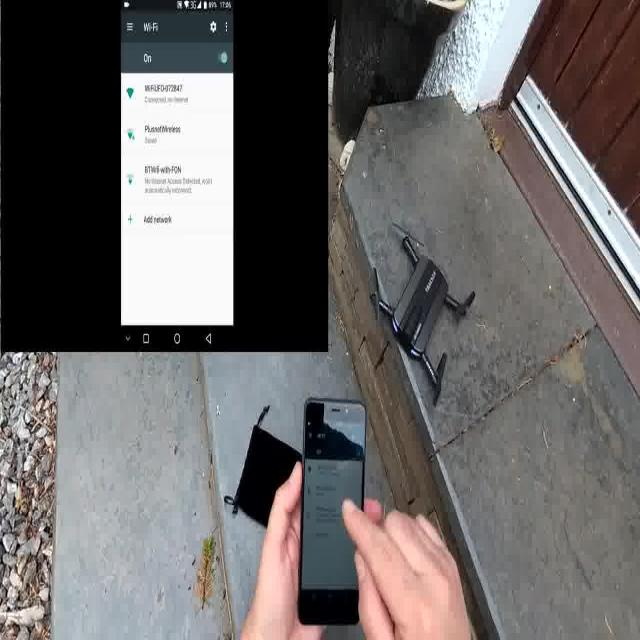Drone_FW: (361, 223, 489, 397)
